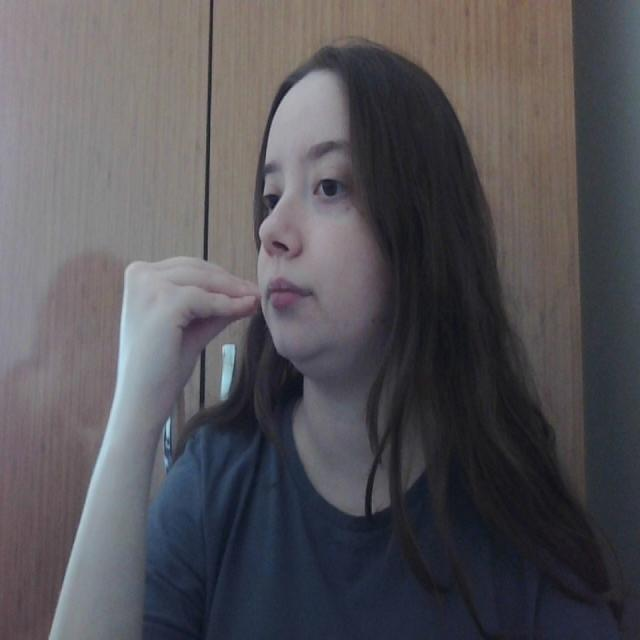Yemek: (115, 255, 292, 354)
